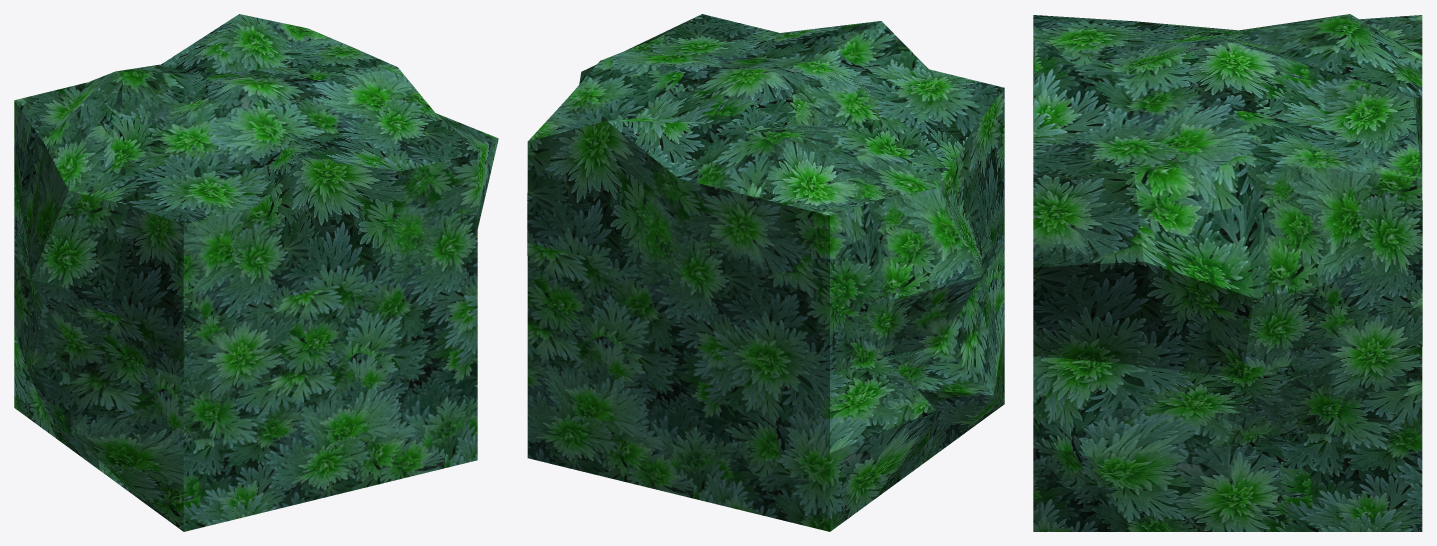
File: modul_3_ok.fbx
3 views of the same model, side by side, from view 1: azimuth 30°, elevation 25°; view 2: azimuth 150°, elevation 25°; view 3: azimuth 270°, elevation 25° (orthographic). The views are drawn at different scales.
Visible parts, largest first — view 1: Cube; view 2: Cube; view 3: Cube.
Boxes of the visible parts, <box> form: Cube: <box>14,14,498,531</box>; Cube: <box>527,14,1004,531</box>; Cube: <box>1033,14,1422,531</box>.
Bounding box in the file's own units: 292 × 229 × 200.
